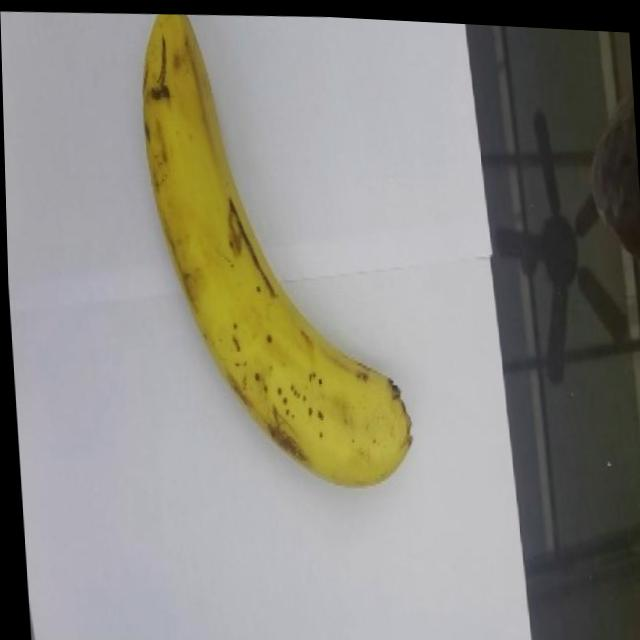Banana: (134, 5, 413, 494)
